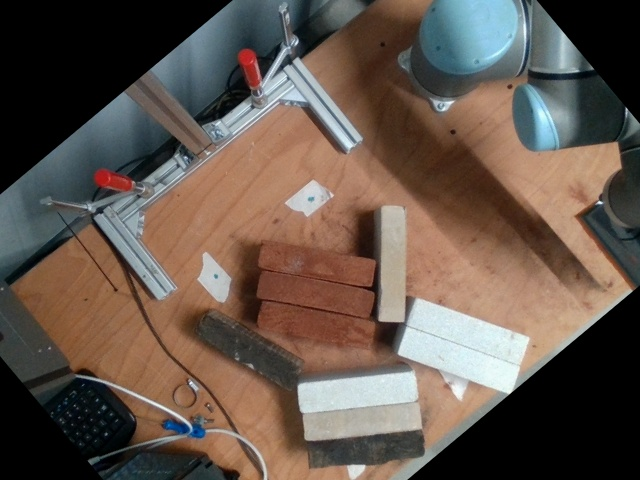brick-side: (192, 314, 299, 390), (402, 330, 516, 390), (411, 302, 525, 361), (260, 240, 374, 287), (258, 270, 372, 316), (259, 302, 373, 348), (300, 374, 414, 411), (305, 404, 419, 440), (311, 432, 424, 466), (381, 208, 403, 319)
